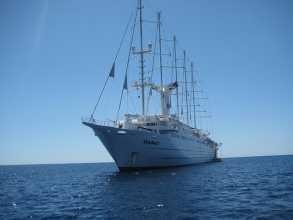fanchuan: (80, 4, 224, 172)
